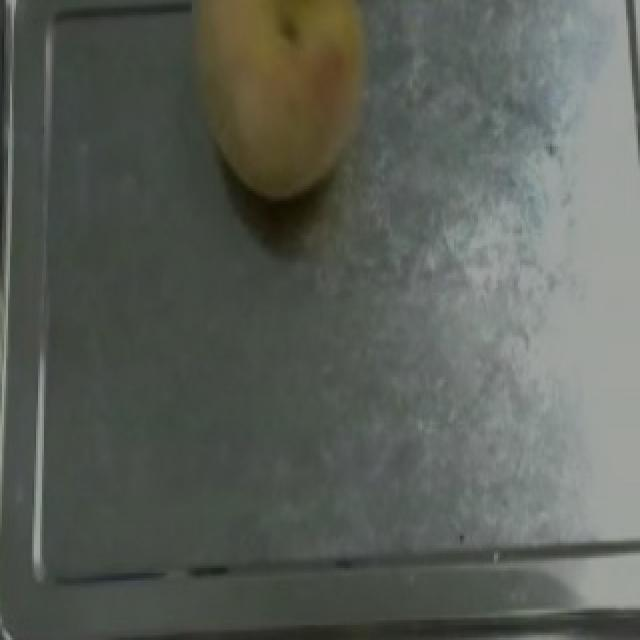Fruit: (174, 0, 390, 213)
